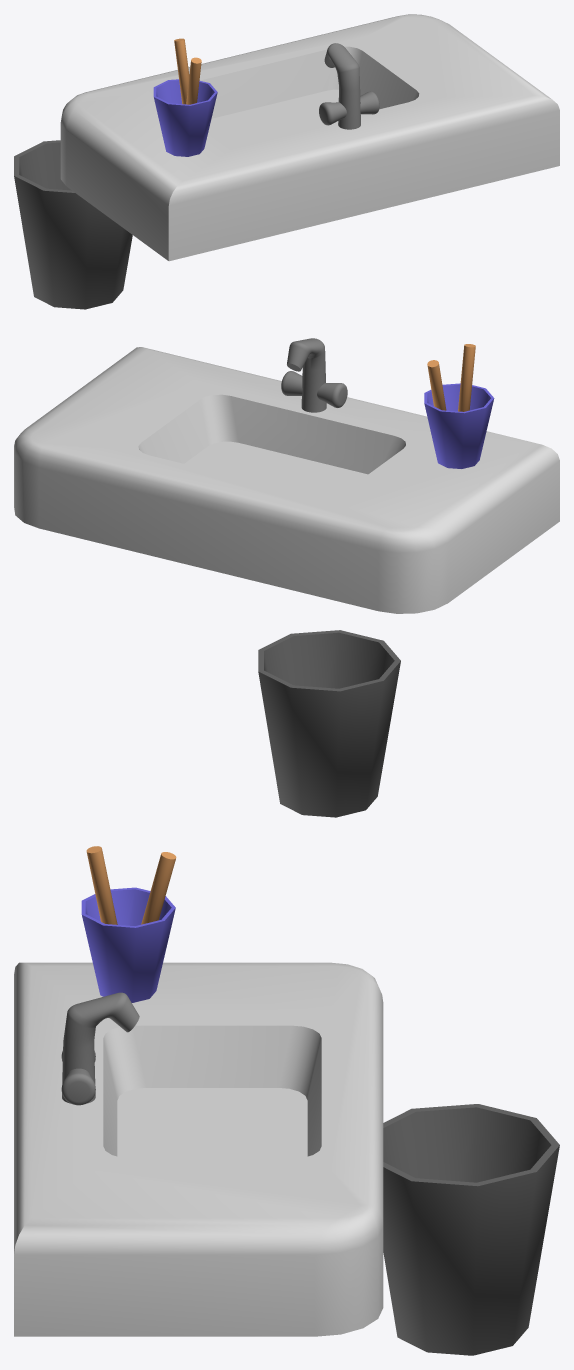
Rendered from lavabo.fbx.
3 renders of one model, top to bottom at view 1: azimuth 30°, elevation 25°; view 2: azimuth 150°, elevation 25°; view 3: azimuth 270°, elevation 25°, orthographic. The views are drawn at different scales.
Parts seen in each view (by area): view 1: lavaboBuyuk.004, kova.002, disFircalik.002; view 2: lavaboBuyuk.004, kova.002, disFircalik.002; view 3: lavaboBuyuk.004, kova.002, disFircalik.002.
Part boxes in pixels (x1,y1,x2,y2): lavaboBuyuk.004: (60,14,559,261); kova.002: (14,140,132,309); disFircalik.002: (153,38,217,156); lavaboBuyuk.004: (14,338,559,613); kova.002: (258,630,400,817); disFircalik.002: (424,344,494,468); lavaboBuyuk.004: (14,962,383,1336); kova.002: (383,1104,559,1355); disFircalik.002: (81,846,176,1002).
Size of the model in its own units: 112 by 92.54 by 88.98.
